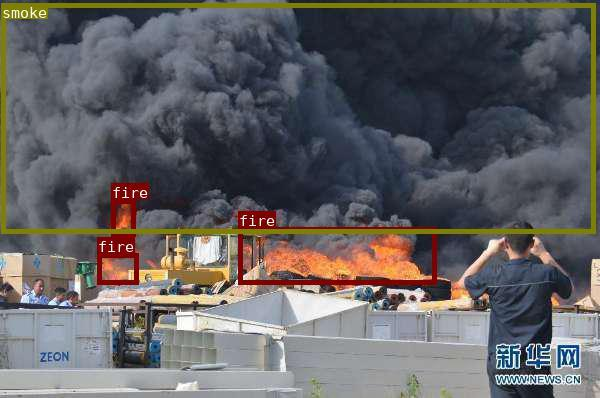fire: (238, 227, 436, 283), (97, 252, 137, 283), (110, 199, 135, 235)
smoke: (0, 2, 595, 233)
